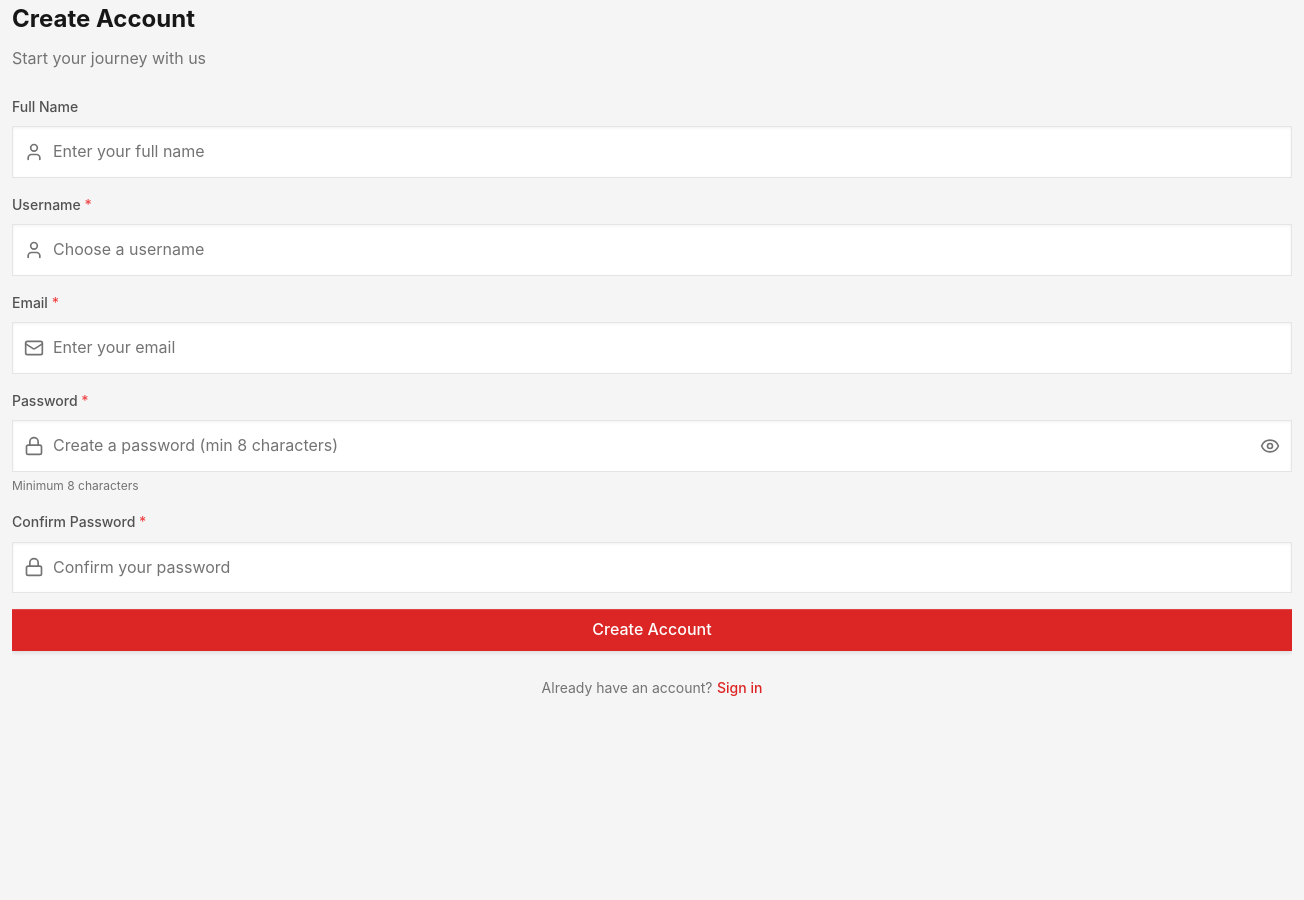
Test: RegisterPage › validation › shows error when passwords do not match
In the field with placeholder "Choose a username": (652, 250) [12,224,1292,276], type "johndoe"
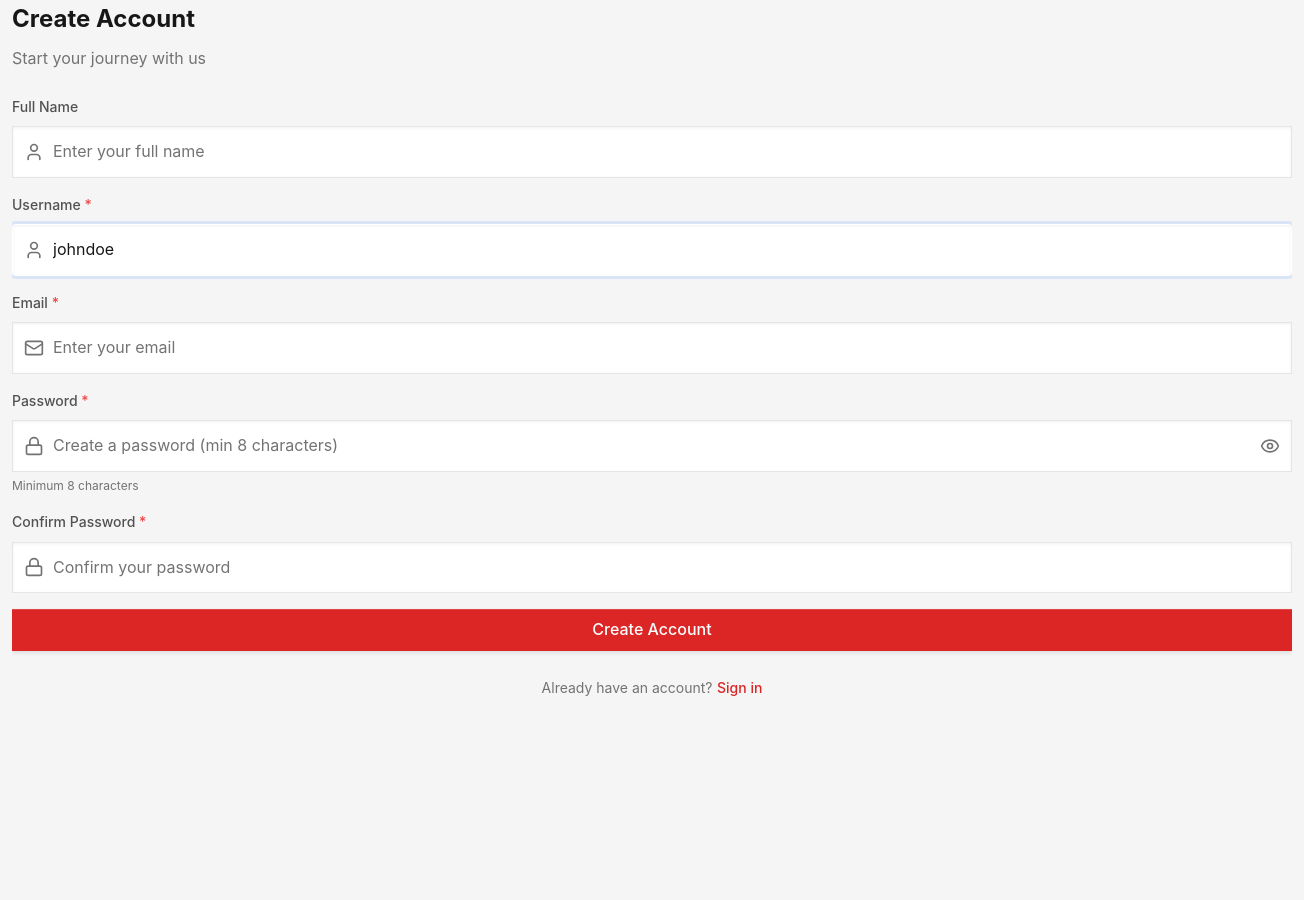
In the field with placeholder "Enter your email": (652, 348) [12,322,1292,374], type "john@example.com"
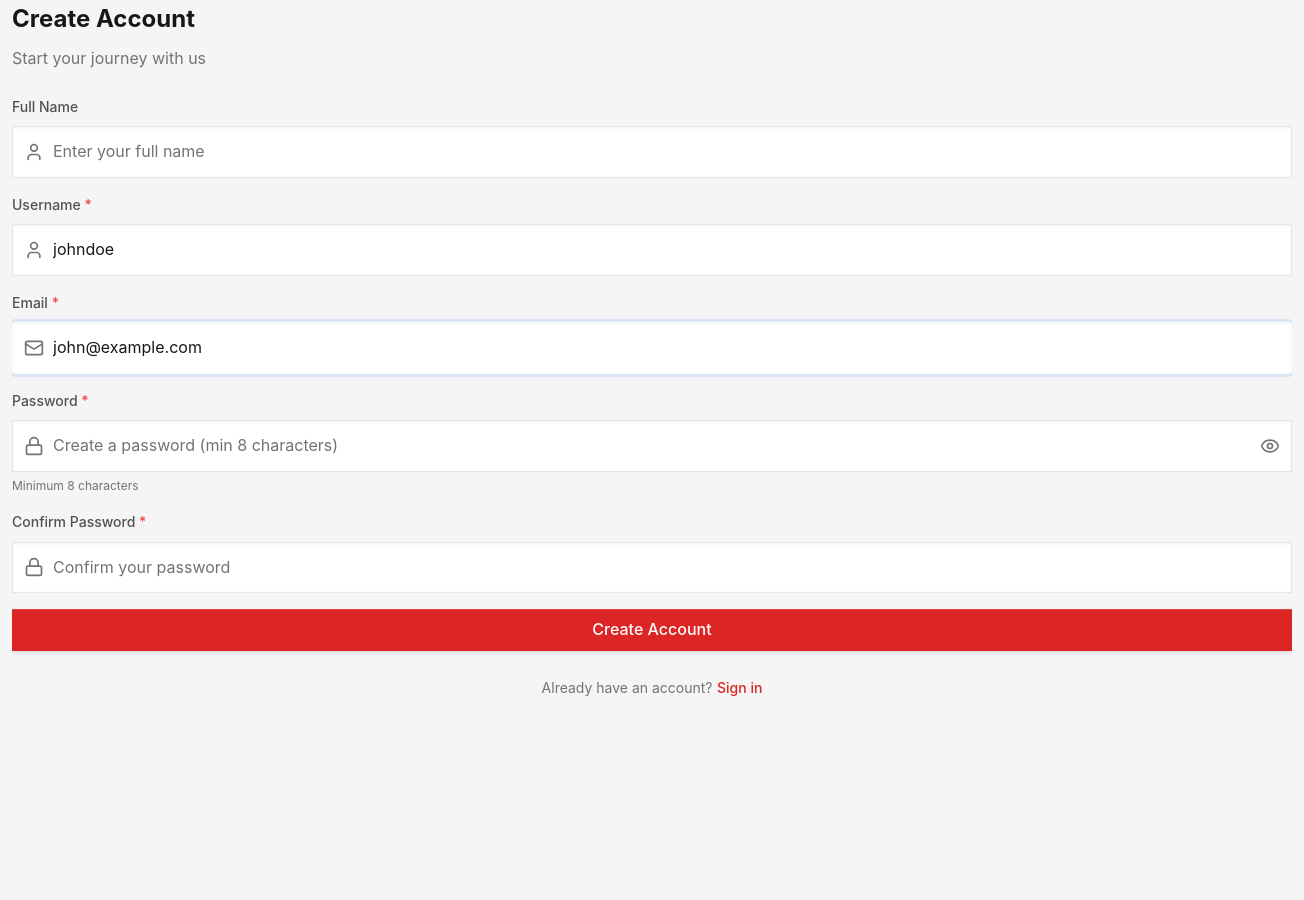
In the password field with placeholder "Create a password (min 8 characters)": (652, 446) [12,420,1292,472], type "Password1"
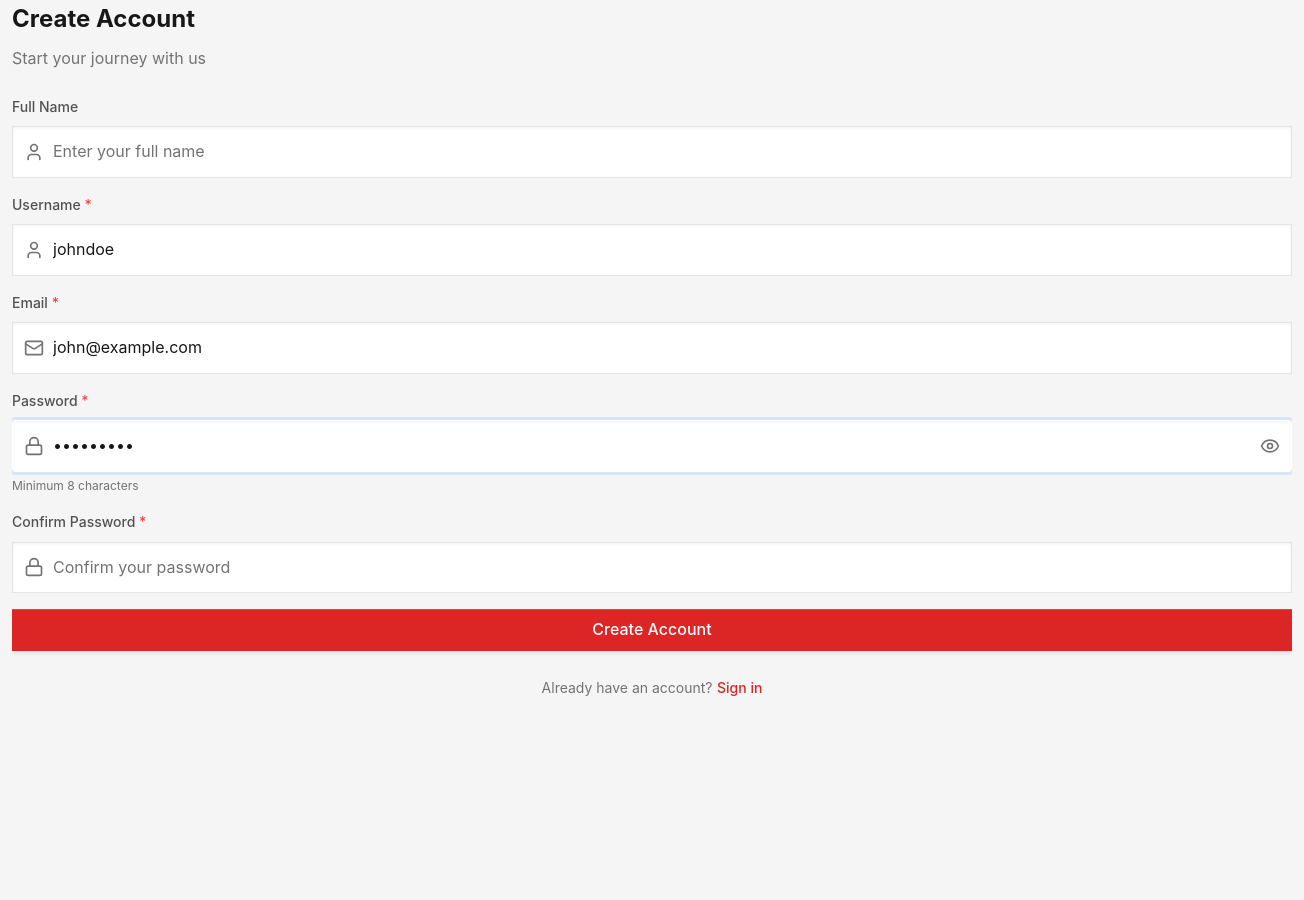
In the password field with placeholder "Confirm your password": (652, 567) [12,542,1292,593], type "Different1"
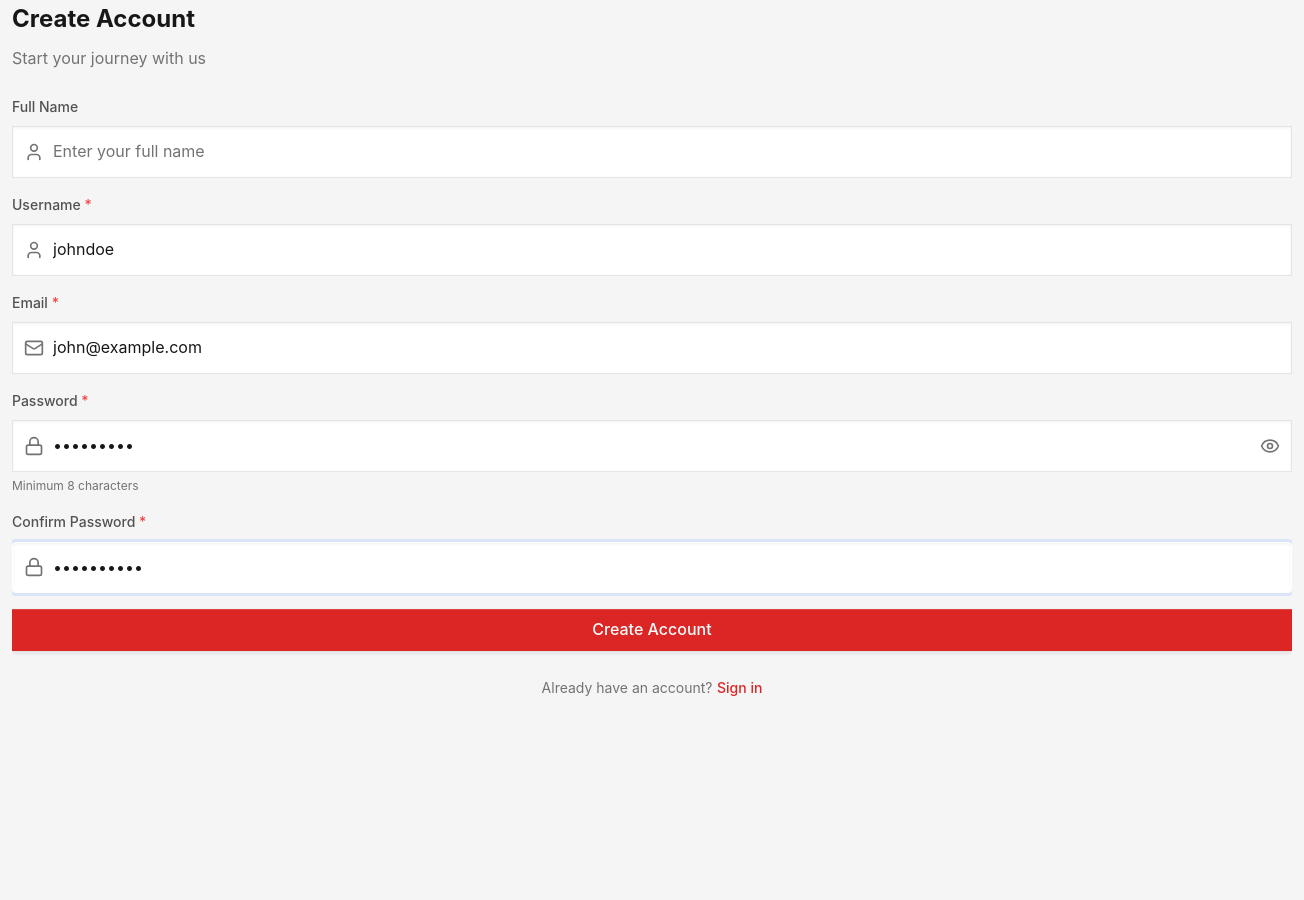
Click the button "Create Account": (652, 630) [12,609,1292,651]
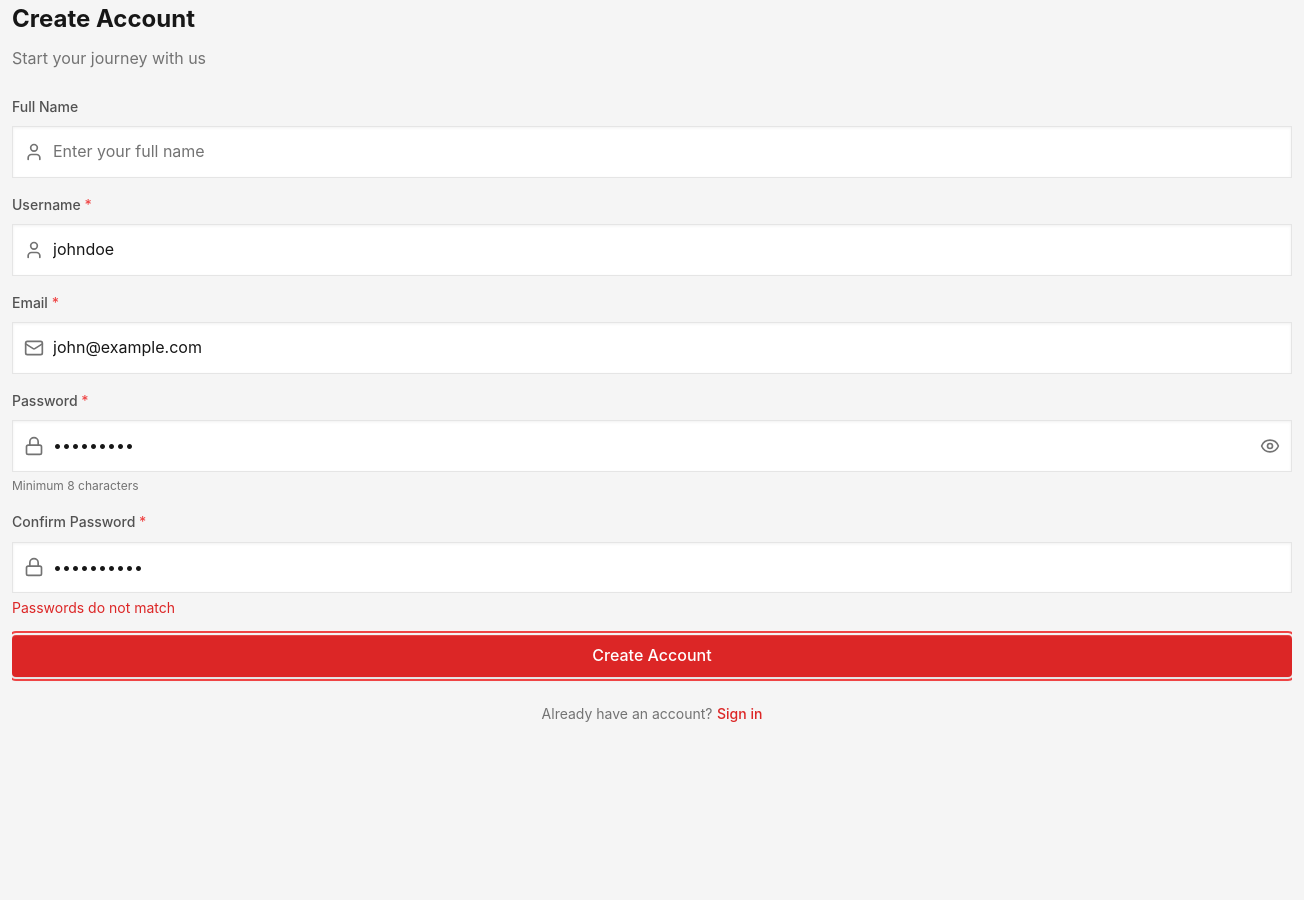
Result: the text "Passwords do not match" is shown at [12,599,175,616]
